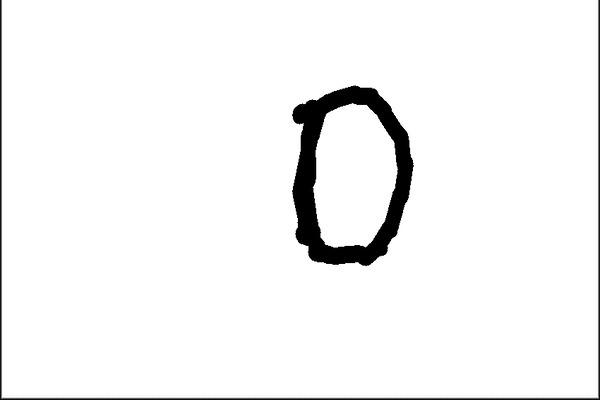D: (285, 79, 421, 273)
